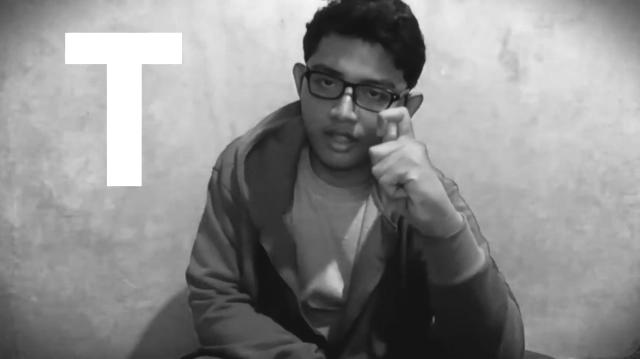T: (367, 107, 437, 227)
